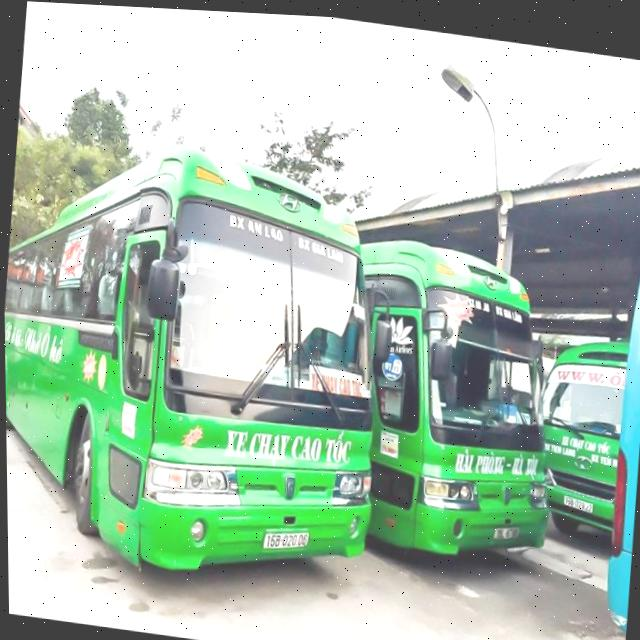car: (2, 124, 394, 607), (313, 219, 568, 593), (518, 279, 640, 566)
plate: (259, 520, 313, 559), (560, 489, 596, 515)
